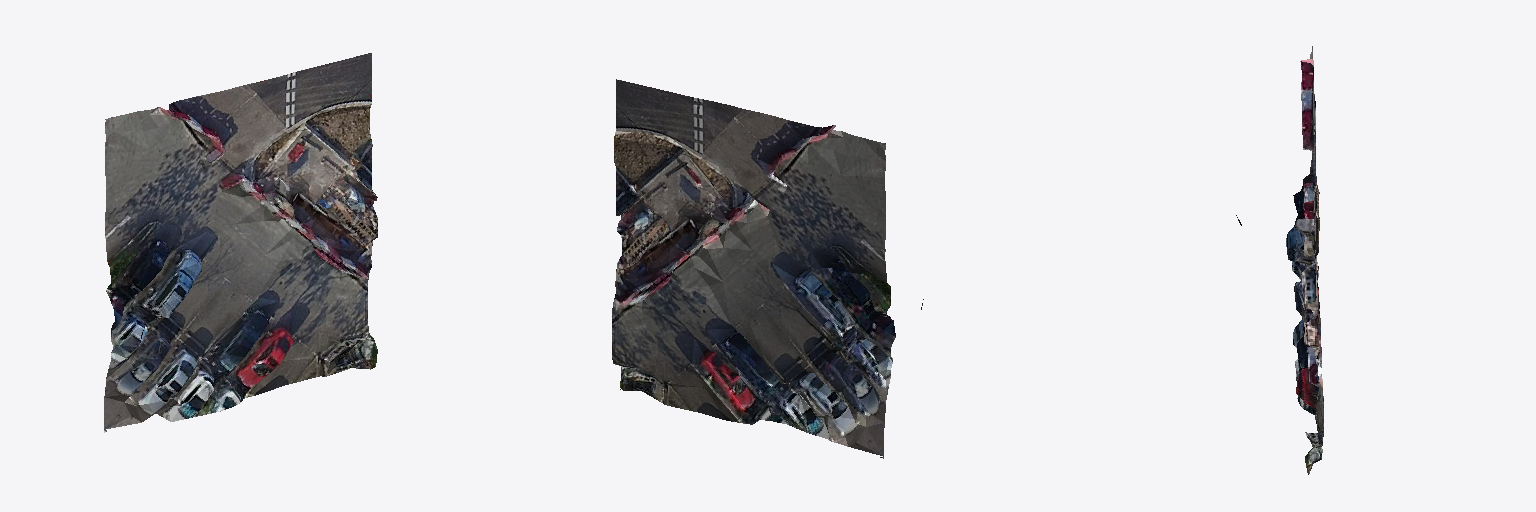
The picture shows the model from 3 angles: view 1: azimuth 30°, elevation 25°; view 2: azimuth 150°, elevation 25°; view 3: azimuth 270°, elevation 25°; orthographic projection.
Parts seen in each view (by area): view 1: obj_0; view 2: obj_0; view 3: obj_0.
Boxes of the visible parts, <box> form: obj_0: <box>104,53,377,432</box>; obj_0: <box>612,79,923,458</box>; obj_0: <box>1236,46,1323,474</box>.
Bounding box in the file's own units: 20.08 × 22.53 × 5.73.
1 materials, 1 textured.